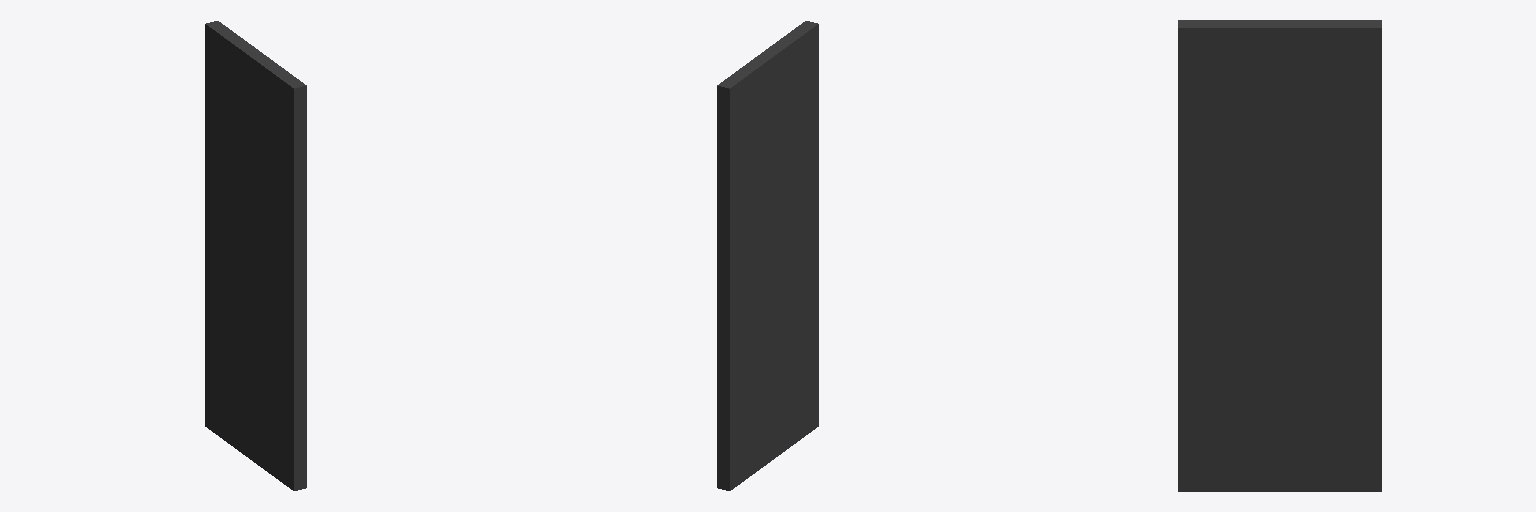
robot.urdf — box:
<?xml version='1.0' encoding='UTF-8'?>
<robot name="box">
  <link name="base_link">
    <inertial>
      <origin xyz="0.0 0.0 0.0" rpy="0.0 -0.0 0.0"/>
      <mass value="1.0"/>
      <inertia ixx="1.0" ixy="0.0" ixz="0.0" iyy="1.0" iyz="0.0" izz="1.0"/>
    </inertial>
    <visual name="base_link_visual">
      <geometry>
        <box size="0.1 1.2 3.0"/>
      </geometry>
      <material name="base_link_color">
        <color rgba="0.3 0.3 0.3 1"/>
      </material>
      <origin xyz="0 0 0" rpy="0 0 0"/>
    </visual>
    <collision name="base_link_collision">
      <geometry>
        <box size="0.1 1.2 3.0"/>
      </geometry>
      <origin xyz="0 0 0" rpy="0 0 0"/>
    </collision>
  </link>
</robot>

--- Render facts (derived) ---
The picture shows the robot from 3 angles, left to right: view 1: azimuth 30°, elevation 25°; view 2: azimuth 150°, elevation 25°; view 3: azimuth 270°, elevation 25°; orthographic projection.
Robot: box — 1 links, 0 joints (none); root link base_link; default pose: all joints at 0.
Links seen in each view (by area): view 1: base_link; view 2: base_link; view 3: base_link.
Link boxes in pixels (<box>): base_link: <box>205,21,306,490</box>; base_link: <box>717,21,818,490</box>; base_link: <box>1178,20,1381,491</box>.
Size in the robot's own frame: 0.1 by 1.2 by 3 metres.
Geometry: primitives only (box / cylinder / sphere), no mesh files.